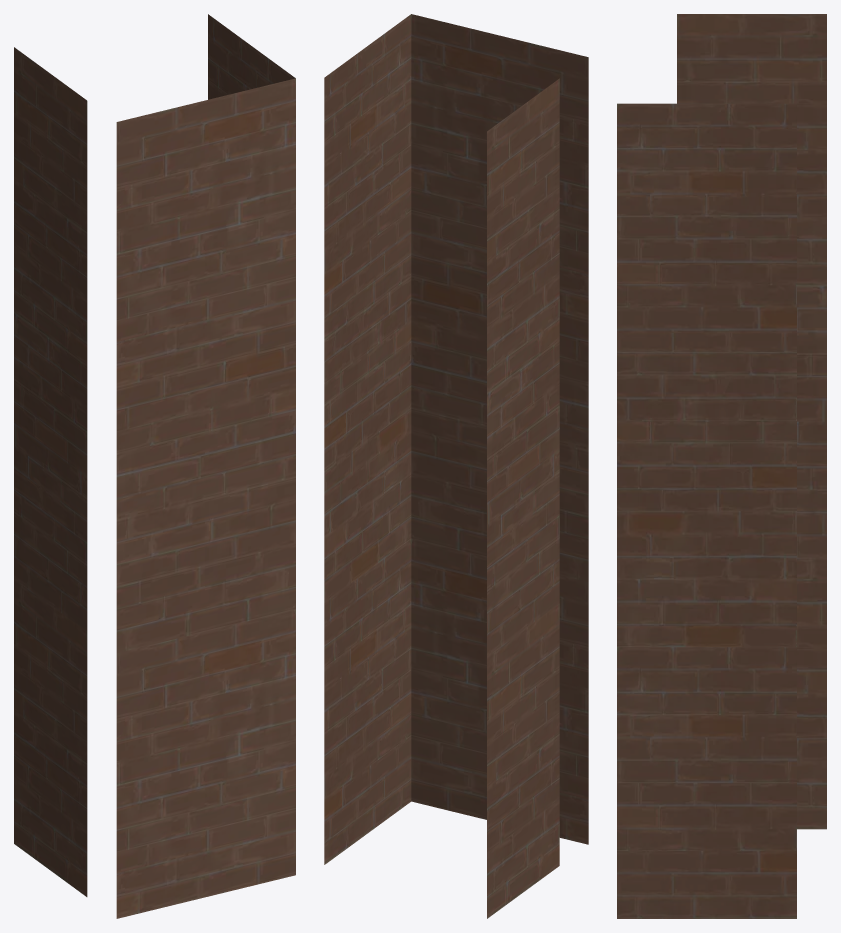
Rendered from Brick_90Angle_L.glb.
3 views of the same model, side by side, from view 1: azimuth 30°, elevation 25°; view 2: azimuth 150°, elevation 25°; view 3: azimuth 270°, elevation 25° (orthographic). The views are drawn at different scales.
Visible parts, largest first — view 1: Brick_90Angle_L; view 2: Brick_90Angle_L; view 3: Brick_90Angle_L.
Boxes of the visible parts, <box> form: Brick_90Angle_L: <box>14,14,295,918</box>; Brick_90Angle_L: <box>324,14,588,918</box>; Brick_90Angle_L: <box>617,14,826,918</box>.
Size of the model in its own units: 0.7063 by 3 by 0.7001.
Materials: 1 (1 with a texture image).
